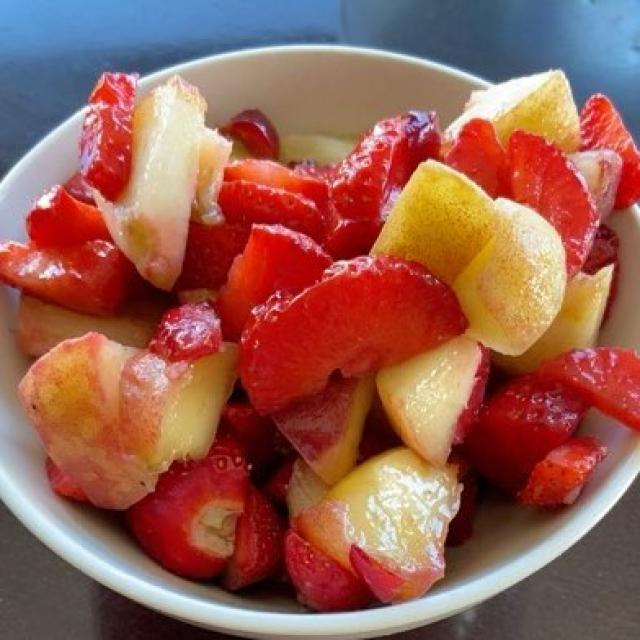fruit-salad: (17, 83, 624, 595)
